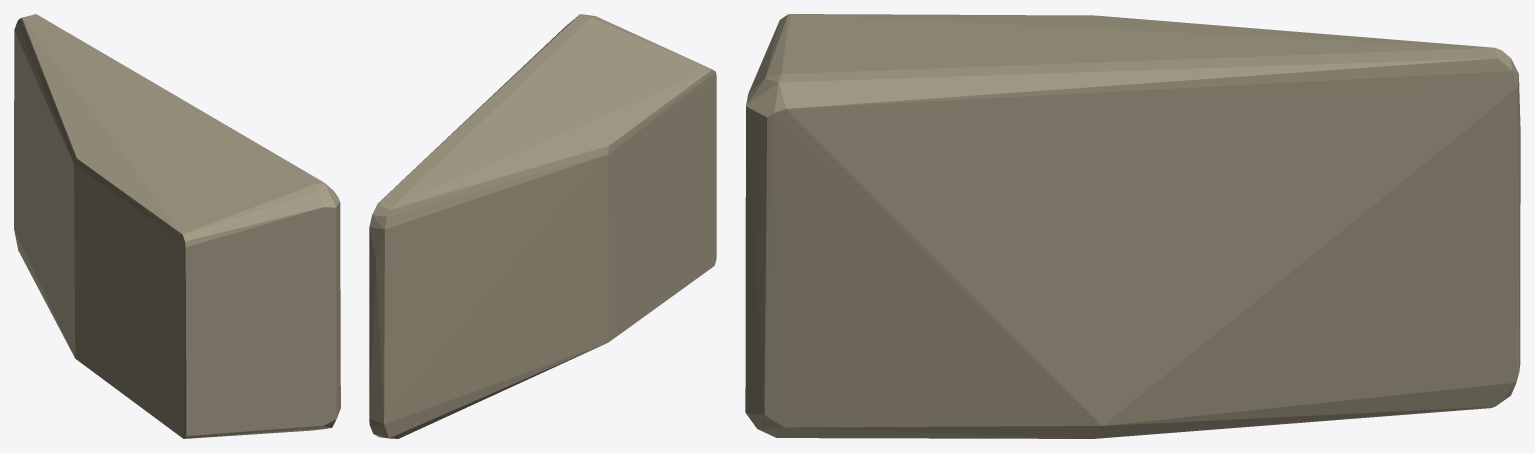
File: equipment_powerOutlet_wallMount_b01.glb
The picture shows the model from 3 angles, left to right: view 1: azimuth 30°, elevation 25°; view 2: azimuth 150°, elevation 25°; view 3: azimuth 270°, elevation 25°; orthographic projection. The views are drawn at different scales.
Visible parts, largest first — view 1: geometry_0; view 2: geometry_0; view 3: geometry_0.
Boxes of the visible parts, x1=… form: geometry_0: x1=14, y1=14, x2=340, y2=438; geometry_0: x1=369, y1=14, x2=716, y2=438; geometry_0: x1=745, y1=14, x2=1520, y2=438.
Bounding box in the file's own units: 0.156 × 0.2428 × 0.4783.
